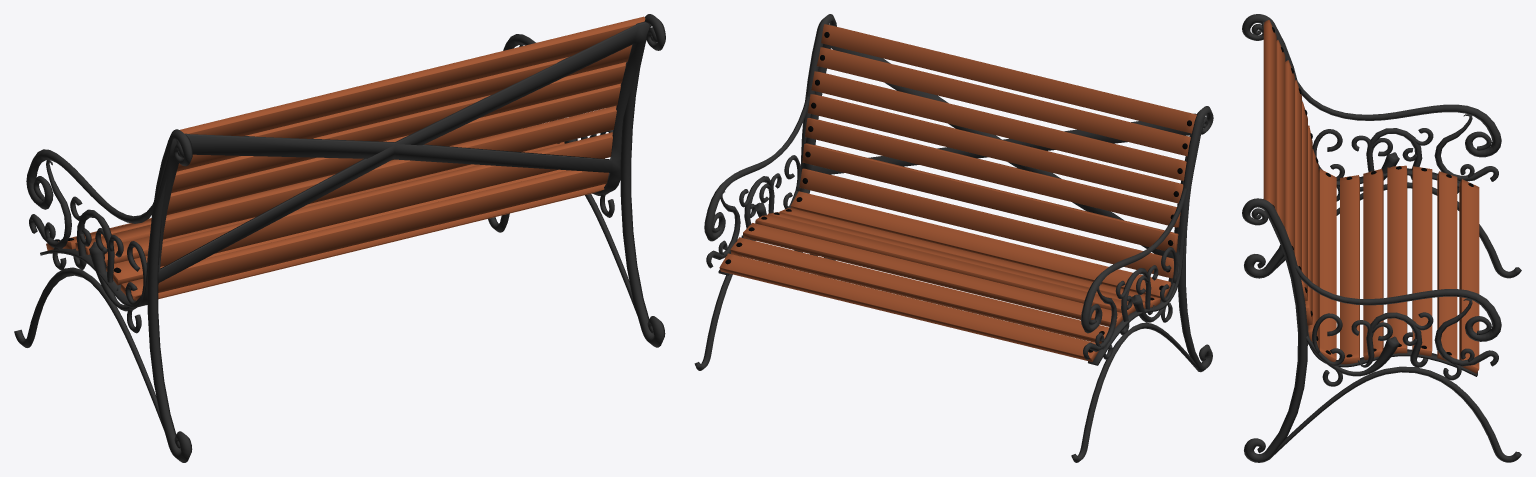
Rendered from bench.fbx.
3 views of the same model, side by side, from view 1: azimuth 30°, elevation 25°; view 2: azimuth 150°, elevation 25°; view 3: azimuth 270°, elevation 25° (orthographic). The views are drawn at different scales.
Visible parts, largest first — view 1: Bench.001; view 2: Bench.001; view 3: Bench.001.
Boxes of the visible parts, x1,y1,x2,y2 form: Bench.001: [14, 14, 665, 462]; Bench.001: [694, 14, 1213, 462]; Bench.001: [1242, 14, 1521, 462].
Bounding box in the file's own units: 440 × 285 × 274.
